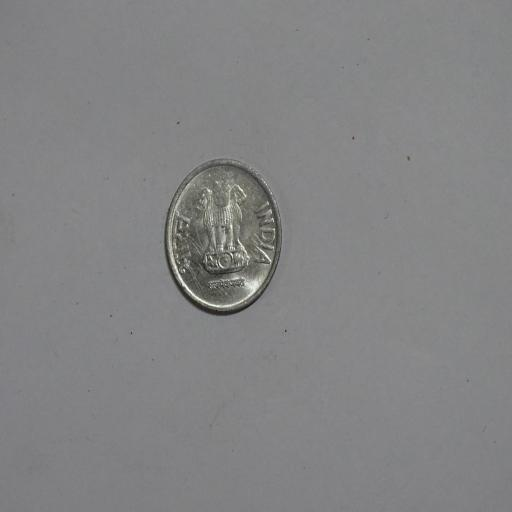rupee1: (163, 157, 283, 313)
